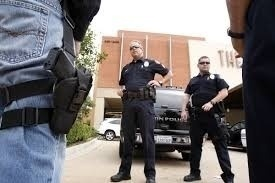pistol: (45, 45, 94, 146)
